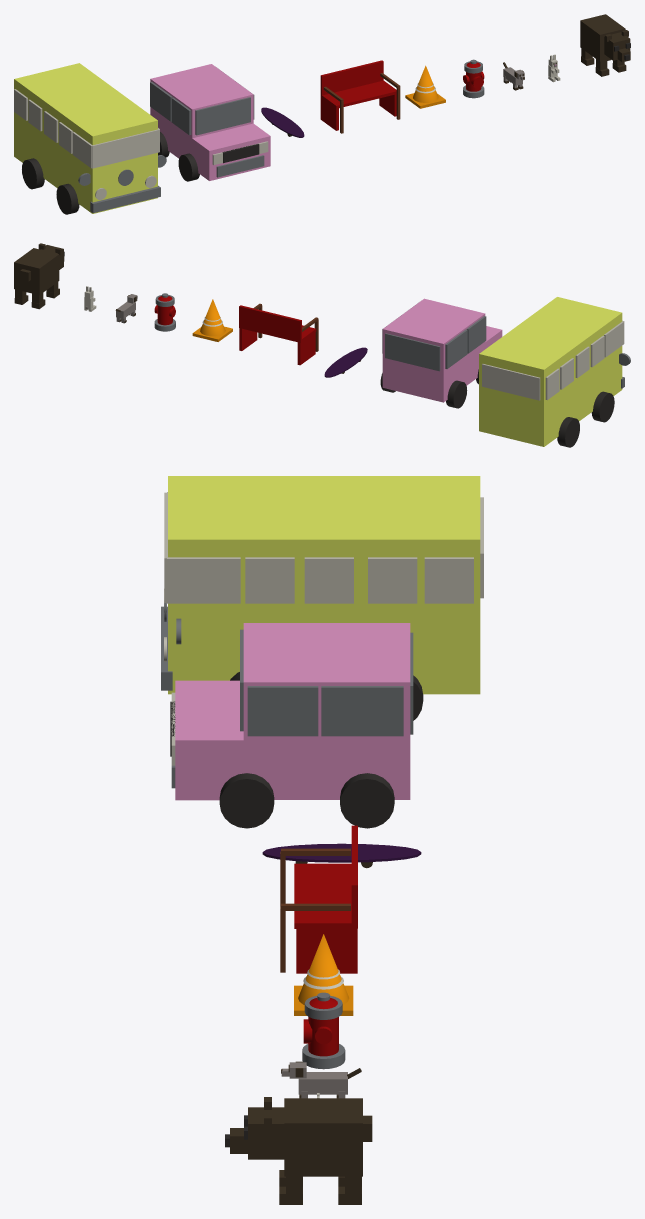
The model's file is maya2sketchfab.fbx.
The picture shows the model from 3 angles, top to bottom: view 1: azimuth 30°, elevation 25°; view 2: azimuth 150°, elevation 25°; view 3: azimuth 270°, elevation 25°; orthographic projection. The views are drawn at different scales.
Parts seen in each view (by area): view 1: vw_body, cube_body, windshield (×2), cube_front, bench_back, bear_body, bench_seat, FR_wheel (×2), front_bumper, board, BR_window, grill (+11 smaller); view 2: vw_body, cube_body, bear_body, bench_back, back_windshield, back_window, BR_wheel (×2), BR_window, board, FR_wheel, traffic_cone, FR_window (+7 smaller); view 3: vw_body, cube_body, cube_front, bear_body, BL_window, FL_window, L_front_window, bench_seat, FL_wheel, BL_wheel, L_window_1, L_window_2 (+7 smaller).
Part boxes in pixels (box(x1,y1,x2,y2)): vw_body: box(14, 63, 157, 213); cube_body: box(150, 64, 253, 158); windshield (×2): box(91, 97, 250, 168); cube_front: box(188, 123, 270, 180); bench_back: box(320, 60, 383, 97); bear_body: box(580, 14, 625, 61); bench_seat: box(321, 80, 396, 108); FR_wheel (×2): box(56, 153, 199, 214); front_bumper: box(90, 185, 160, 213); board: box(261, 107, 304, 137); BR_window: box(150, 82, 172, 121); grill: box(216, 155, 264, 177); vw_body: box(479, 297, 622, 446); cube_body: box(382, 298, 485, 402); bear_body: box(14, 248, 59, 295); bench_back: box(239, 305, 301, 342); back_windshield: box(385, 333, 440, 371); back_window: box(482, 364, 540, 400); BR_wheel (×2): box(446, 380, 579, 447); BR_window: box(445, 329, 467, 368); board: box(324, 347, 367, 377); FR_wheel: box(591, 391, 614, 422); traffic_cone: box(200, 299, 225, 336); FR_window: box(466, 316, 486, 353); vw_body: box(168, 476, 480, 694); cube_body: box(243, 623, 410, 799); cube_front: box(175, 680, 259, 800); bear_body: box(284, 1098, 362, 1176); BL_window: box(321, 686, 403, 736); FL_window: box(247, 686, 318, 736); L_front_window: box(167, 557, 240, 603); bench_seat: box(294, 863, 352, 928); FL_wheel: box(219, 773, 274, 828); BL_wheel: box(340, 773, 394, 828); L_window_1: box(245, 557, 294, 603); L_window_2: box(304, 557, 353, 603).
Bounding box in the file's own units: 66.97 × 10.27 × 16.41.
